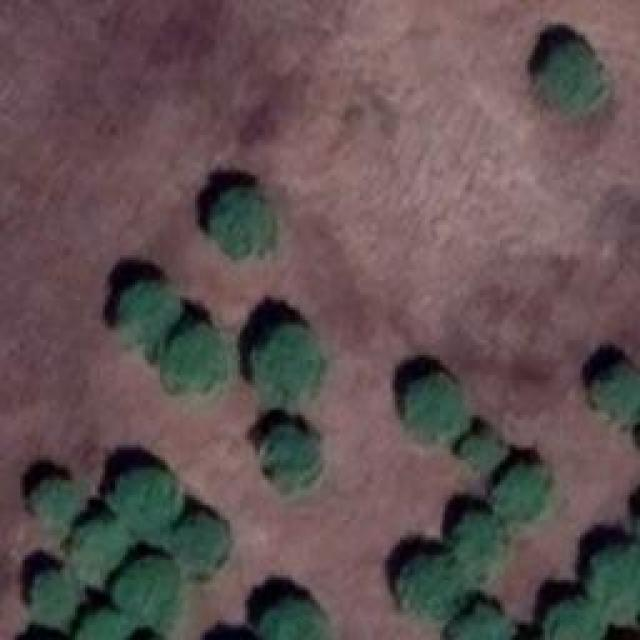Tree: (258, 323, 331, 400), (393, 555, 471, 626), (215, 185, 287, 257), (163, 323, 232, 391), (448, 513, 508, 590), (545, 48, 614, 113), (403, 372, 466, 442), (115, 278, 183, 339), (122, 560, 179, 624), (165, 510, 225, 570), (72, 518, 130, 579), (265, 431, 327, 488), (260, 592, 335, 639), (35, 478, 102, 530), (595, 545, 640, 622), (115, 463, 170, 523), (28, 563, 78, 622), (595, 363, 640, 428), (453, 424, 503, 478), (492, 468, 539, 523), (450, 605, 513, 640), (545, 600, 593, 640), (78, 605, 128, 640)
